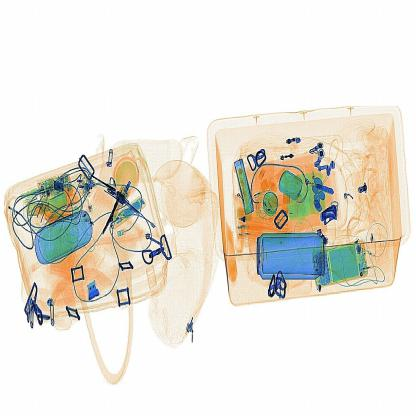knife: (320, 201, 341, 228)
